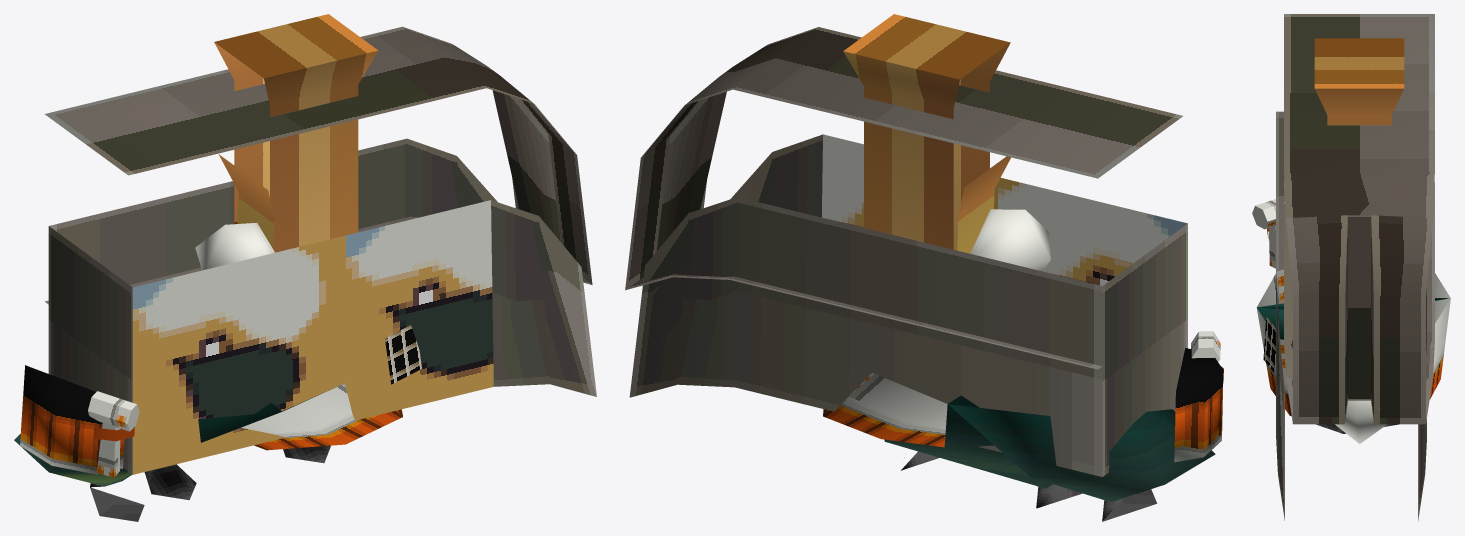
3 renders of one model, left to right at view 1: azimuth 30°, elevation 25°; view 2: azimuth 150°, elevation 25°; view 3: azimuth 270°, elevation 25°, orthographic. The views are drawn at different scales.
Visible parts, largest first — view 1: npc2025; view 2: npc2025; view 3: npc2025.
Boxes of the visible parts, x1,y1,x2,y2 form: npc2025: (14, 14, 596, 521); npc2025: (625, 14, 1223, 521); npc2025: (1252, 14, 1450, 521).
Size of the model in its own units: 1.57 by 1.15 by 0.564.
10 materials, 10 textured.
